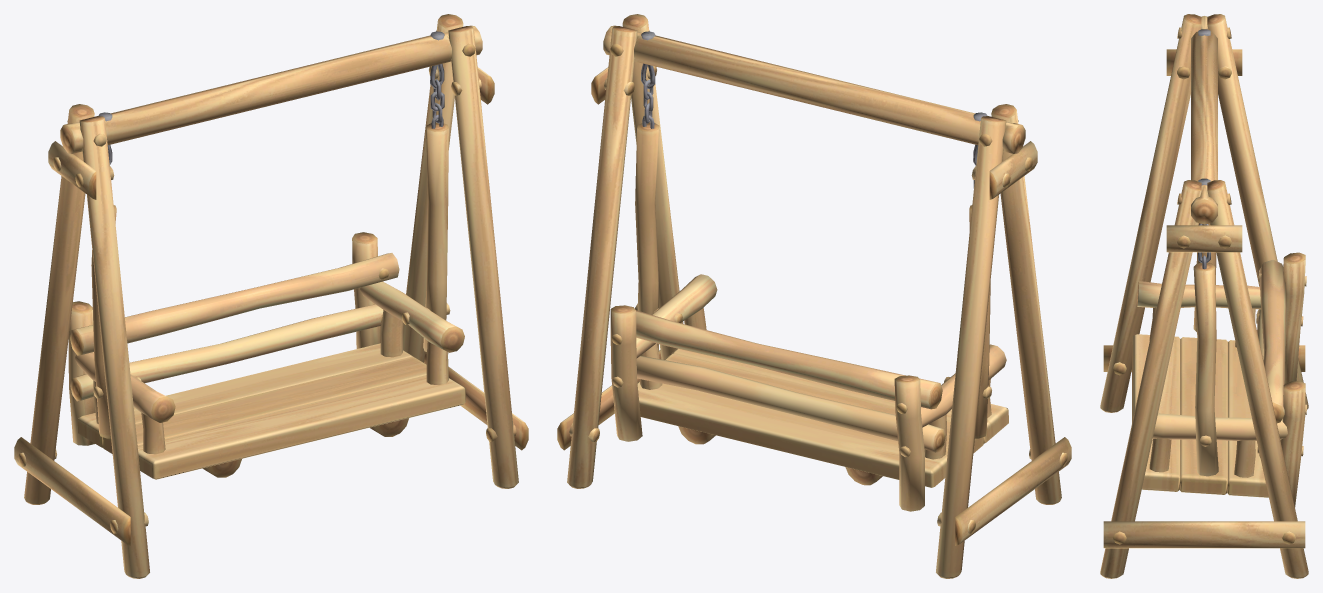
Rendered from swing.glb.
3 renders of one model, left to right at view 1: azimuth 30°, elevation 25°; view 2: azimuth 150°, elevation 25°; view 3: azimuth 270°, elevation 25°, orthographic. The views are drawn at different scales.
Parts seen in each view (by area): view 1: chain01_low__mReBody; view 2: chain01_low__mReBody; view 3: chain01_low__mReBody.
Boxes of the visible parts, <box> form: chain01_low__mReBody: <box>14,14,528,578</box>; chain01_low__mReBody: <box>557,14,1071,578</box>; chain01_low__mReBody: <box>1100,14,1308,578</box>.
Bounding box in the file's own units: 20 × 19.93 × 9.59.
1 material, 1 textured.
